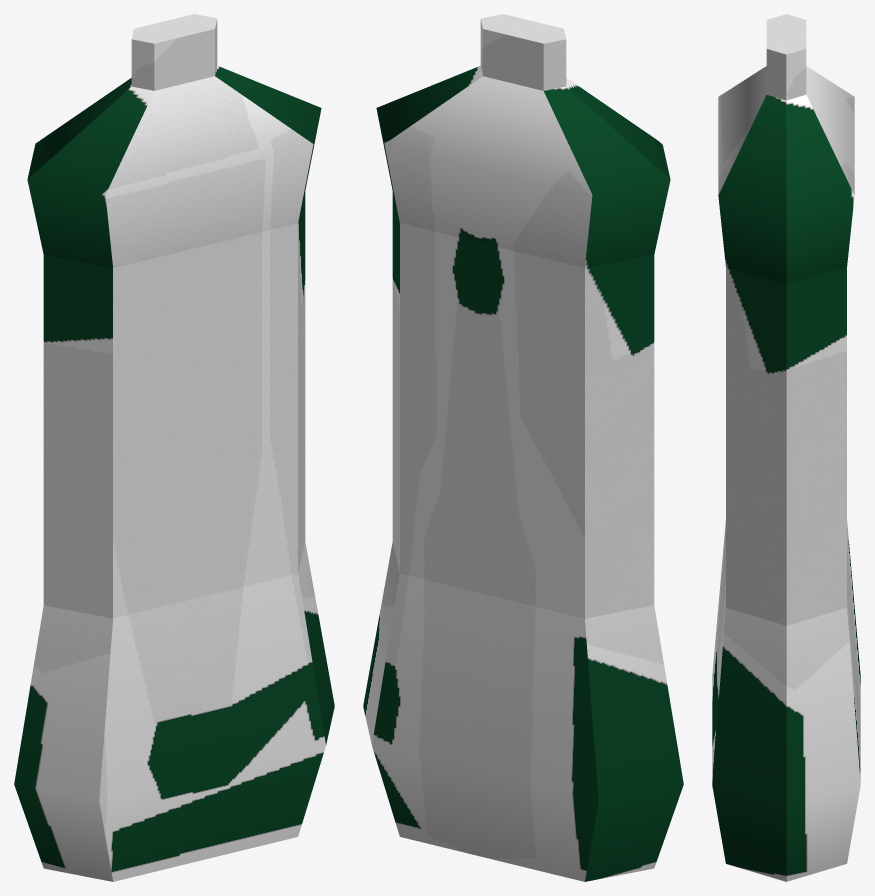
File: plastic_bottle_b.fbx
3 renders of one model, left to right at view 1: azimuth 30°, elevation 25°; view 2: azimuth 150°, elevation 25°; view 3: azimuth 270°, elevation 25°, orthographic. The views are drawn at different scales.
Parts seen in each view (by area): view 1: pCylinder10; view 2: pCylinder10; view 3: pCylinder10.
Part boxes in pixels (box(x1,y1,x2,y2)): pCylinder10: box(14, 14, 334, 881); pCylinder10: box(363, 14, 683, 881); pCylinder10: box(712, 14, 860, 881).
Size of the model in its own units: 1.75 by 4.22 by 0.7233.
